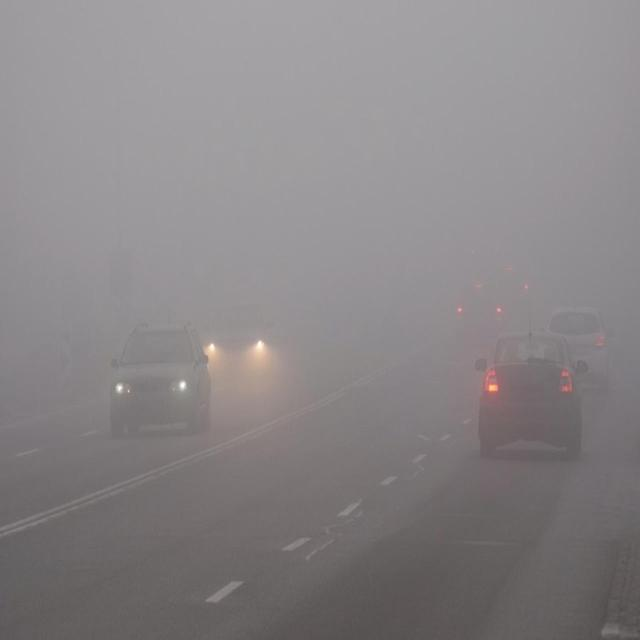Car: (471, 333, 589, 465), (108, 321, 212, 437), (535, 306, 618, 390), (454, 278, 506, 336)
